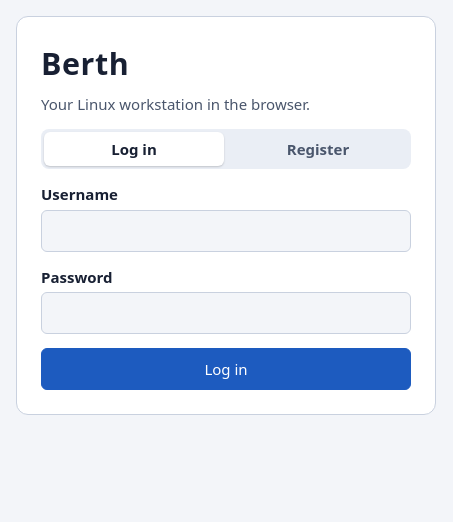
Test case: switching tabs starts clean › a failed-login banner does not follow the user to the Register tab
The image size is (453, 522).
Type "alice" into the field labelled "Username". click: (226, 231)
box: [41,210,411,252]
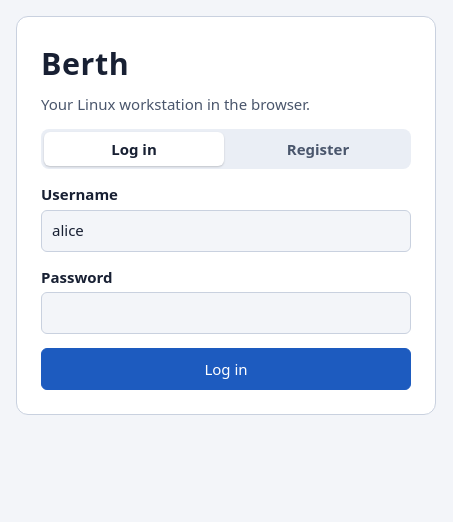
Type "wrong password" into the password field labelled "Password". click: (226, 313)
box: [41,292,411,334]
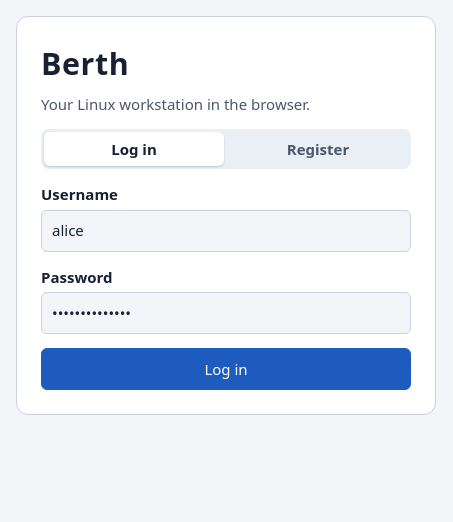
Submit the form labelled "Username Password Log in", box [41,183,411,390]
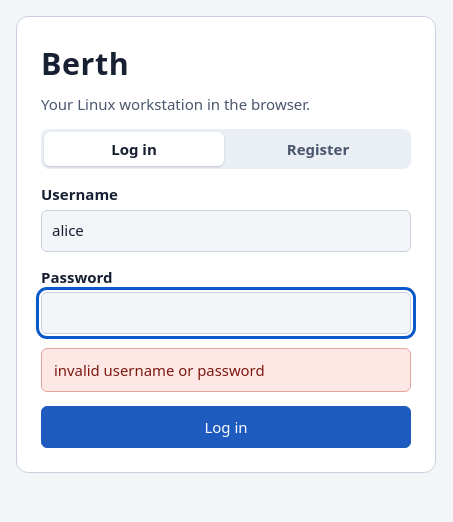
Now the message "invalid username or password" is shown, box [41,348,411,392]
Click the tab "Register". click: (318, 149)
box: [228,132,408,166]
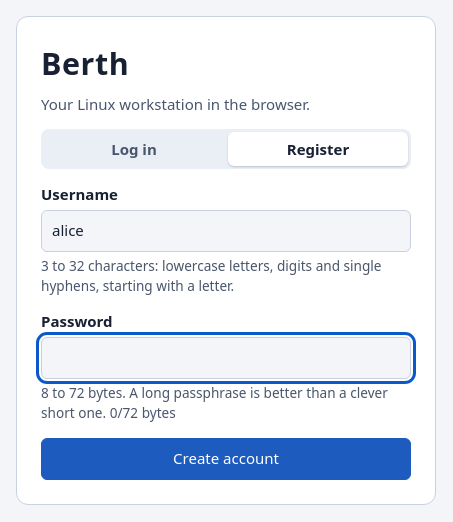
Now the message "invalid username or password" is gone
Now the text "invalid username or password" is gone
